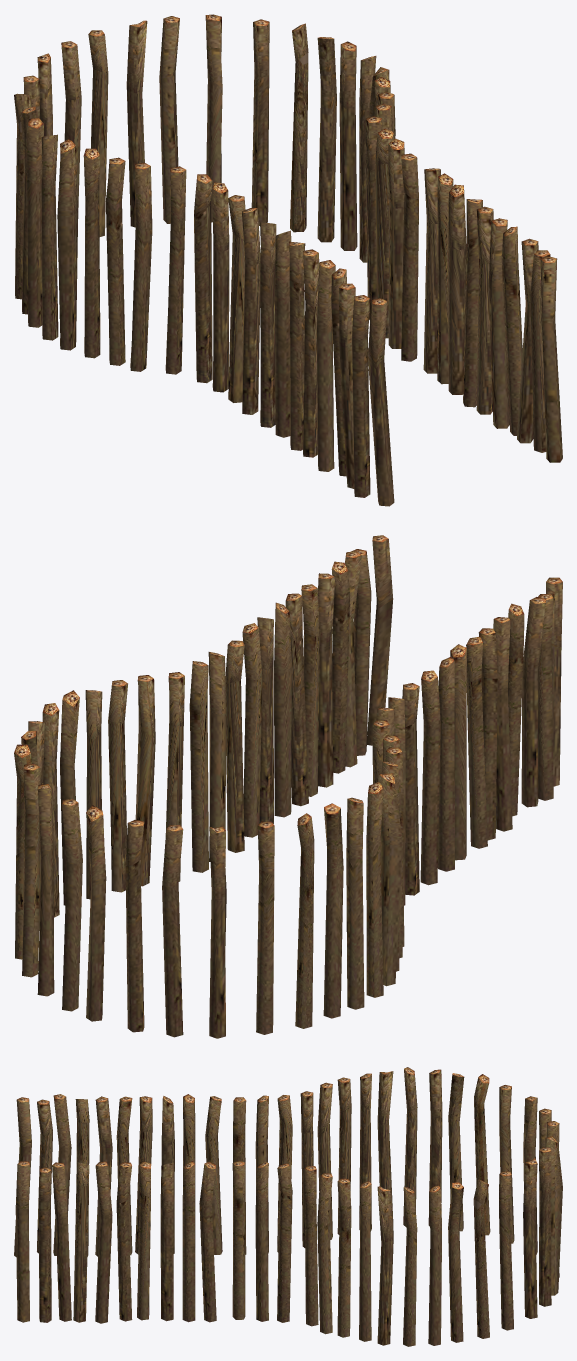
File: fndn_celt_dock.glb
3 views of the same model, one above another, from view 1: azimuth 30°, elevation 25°; view 2: azimuth 150°, elevation 25°; view 3: azimuth 270°, elevation 25° (orthographic). The views are drawn at different scales.
Parts seen in each view (by area): view 1: fndn_celt_dock_part0; view 2: fndn_celt_dock_part0; view 3: fndn_celt_dock_part0.
Part boxes in pixels (<box>): fndn_celt_dock_part0: <box>14,14,562,506</box>; fndn_celt_dock_part0: <box>14,535,562,1038</box>; fndn_celt_dock_part0: <box>14,1067,562,1346</box>.
Size of the model in its own units: 2.65 by 1.57 by 4.91.
1 material, 1 textured.
